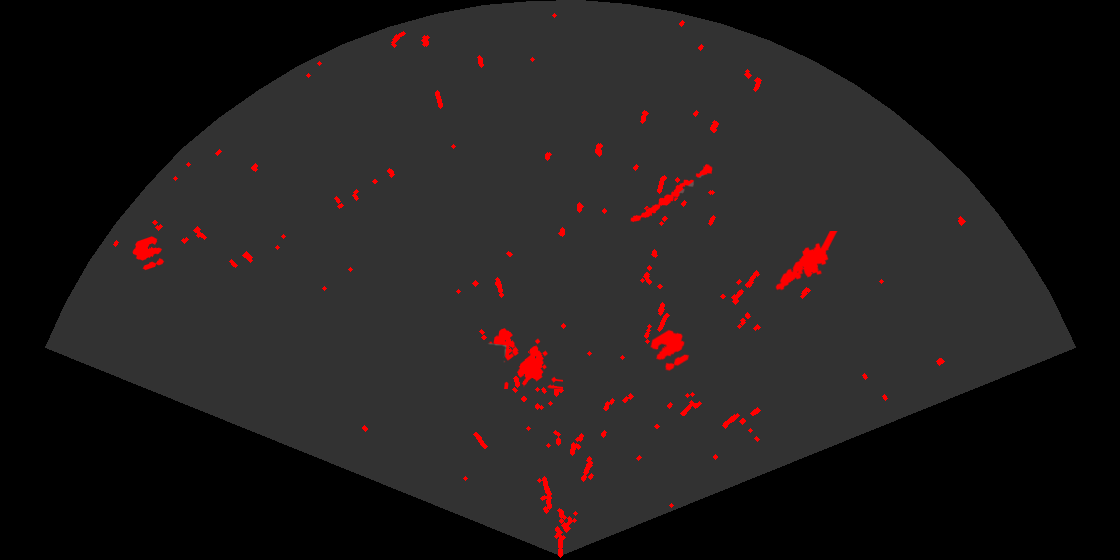ball: (649, 328, 691, 373), (131, 235, 166, 272)
cage: (487, 327, 563, 389)
chain: (629, 162, 714, 224)
frogman: (774, 231, 838, 292)
